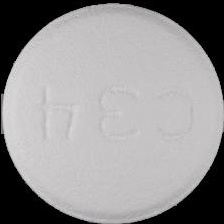43353-133: (0, 0, 224, 224)
